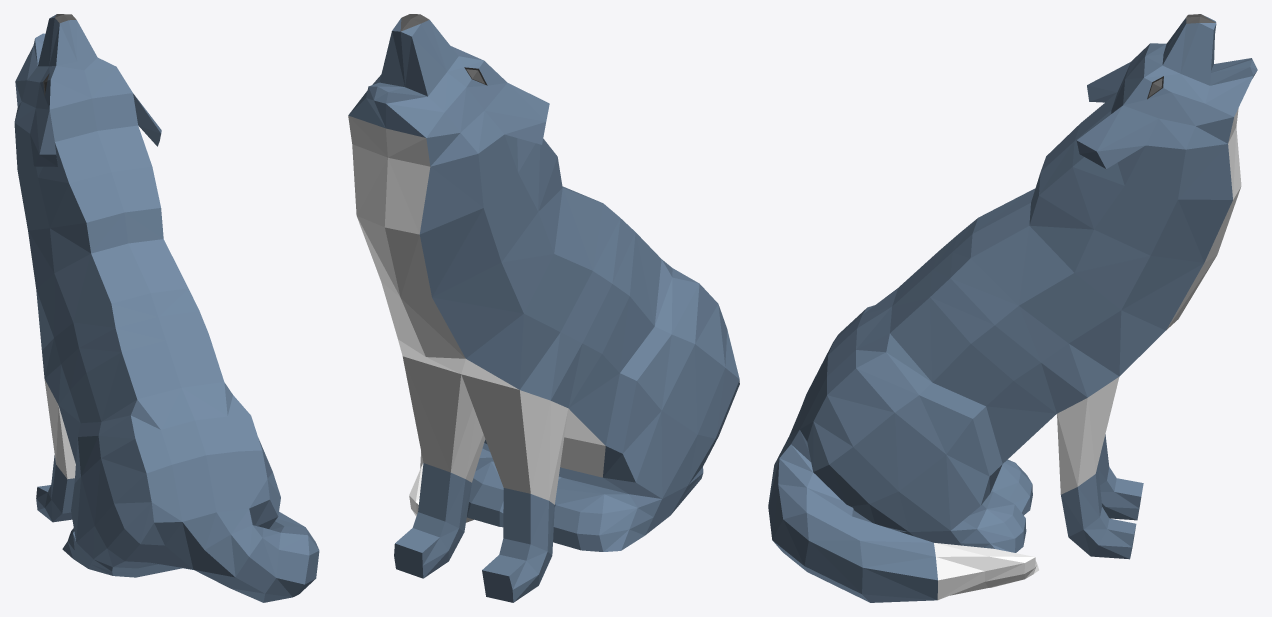
Rendered from Wolf.fbx.
3 views of the same model, side by side, from view 1: azimuth 30°, elevation 25°; view 2: azimuth 150°, elevation 25°; view 3: azimuth 270°, elevation 25° (orthographic). The views are drawn at different scales.
Parts seen in each view (by area): view 1: M_Wolf; view 2: M_Wolf; view 3: M_Wolf.
Part boxes in pixels (<box>): M_Wolf: <box>14,14,319,602</box>; M_Wolf: <box>348,14,739,602</box>; M_Wolf: <box>768,14,1257,602</box>.
Bounding box in the file's own units: 34.62 × 77.05 × 63.32.
1 material, 1 textured.
